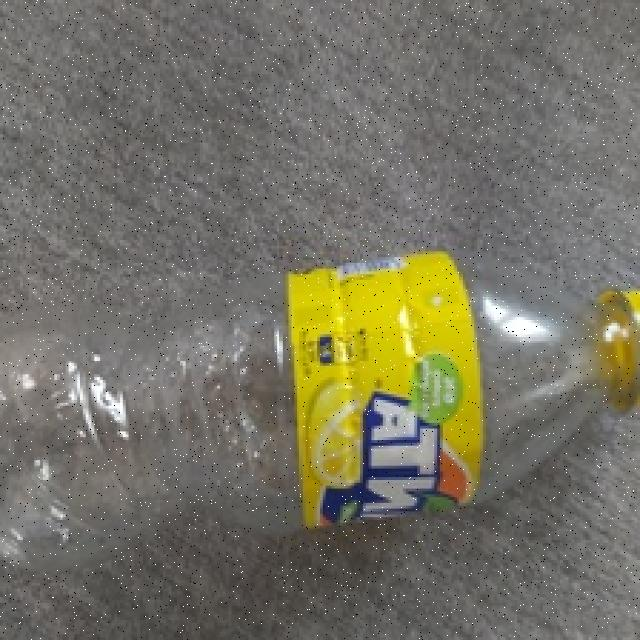plastic: (0, 239, 636, 576)
